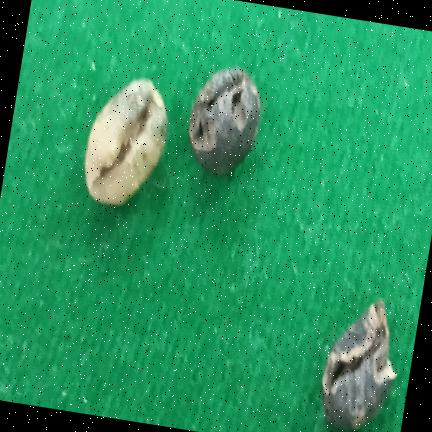partial-black: (85, 79, 167, 205), (322, 299, 397, 429), (189, 68, 261, 174)
